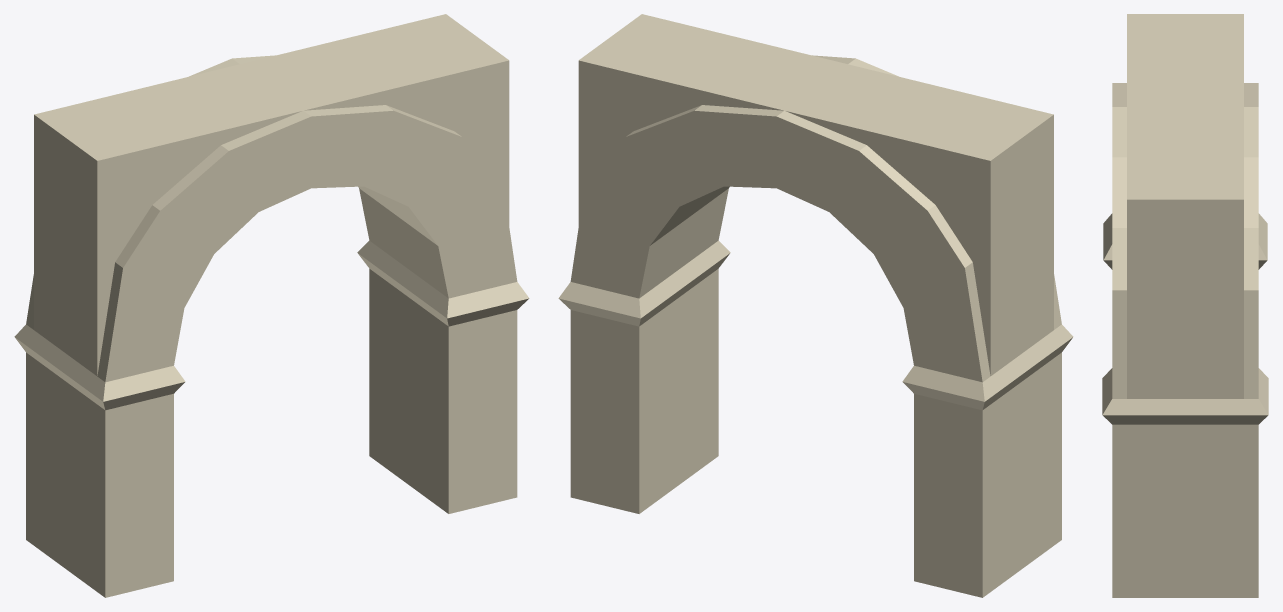
File: roman_arch_short.fbx
3 views of the same model, side by side, from view 1: azimuth 30°, elevation 25°; view 2: azimuth 150°, elevation 25°; view 3: azimuth 270°, elevation 25° (orthographic). The views are drawn at different scales.
Parts seen in each view (by area): view 1: Circle.003, Circle.002; view 2: Circle.003, Circle.002; view 3: Circle.002, Circle.003.
Boxes of the visible parts, left/top/right/bottom form: Circle.003: left=14, top=55, right=529, bottom=597; Circle.002: left=34, top=14, right=509, bottom=375; Circle.003: left=558, top=55, right=1073, bottom=597; Circle.002: left=578, top=14, right=1053, bottom=375; Circle.002: left=1127, top=14, right=1243, bottom=398; Circle.003: left=1102, top=83, right=1268, bottom=597.
Bounding box in the file's own units: 3.1 × 3 × 1.13.
